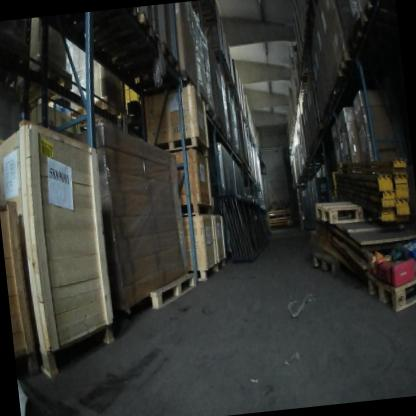pallet: (2, 48, 75, 109), (109, 31, 180, 93), (89, 6, 157, 63), (366, 266, 416, 314), (147, 270, 199, 310), (314, 196, 377, 226), (68, 94, 128, 125), (312, 246, 343, 278), (348, 14, 368, 50), (335, 48, 354, 79), (360, 0, 382, 22)
